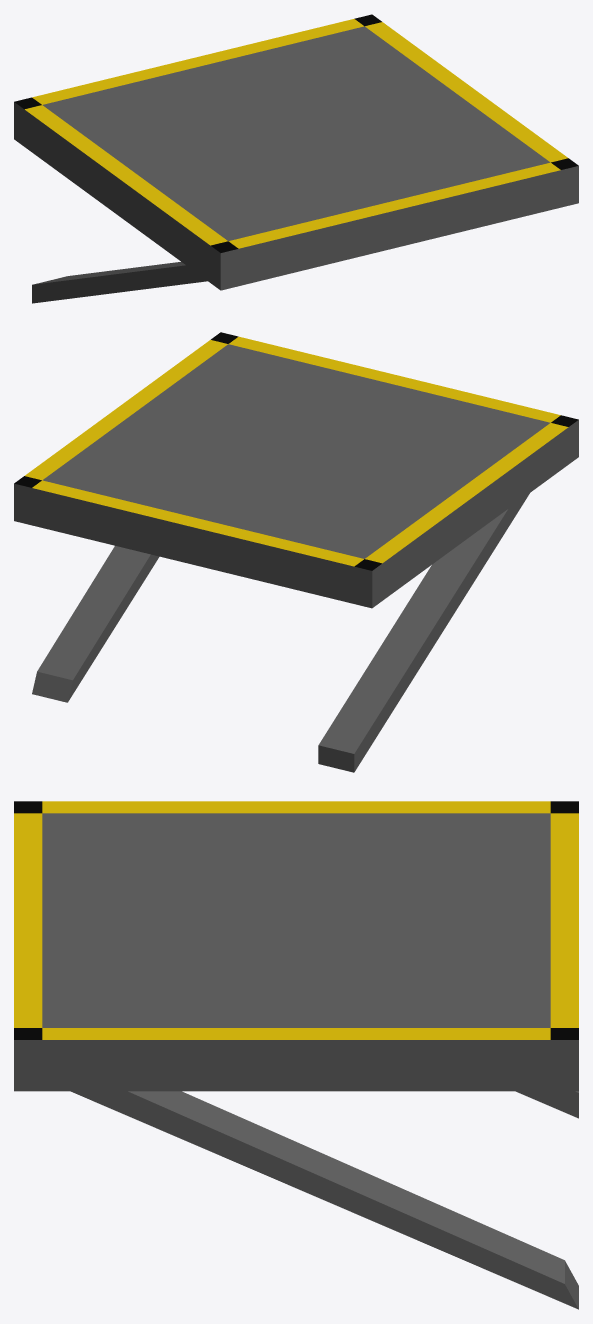
The model's file is platform_wall.fbx.
3 views of the same model, one above another, from view 1: azimuth 30°, elevation 25°; view 2: azimuth 150°, elevation 25°; view 3: azimuth 270°, elevation 25° (orthographic). The views are drawn at different scales.
Parts seen in each view (by area): view 1: platform_wall; view 2: platform_wall; view 3: platform_wall.
Boxes of the visible parts, <box> form: platform_wall: <box>14,14,578,303</box>; platform_wall: <box>14,332,578,772</box>; platform_wall: <box>14,801,578,1309</box>.
Bounding box in the file's own units: 400 × 220 × 400.
